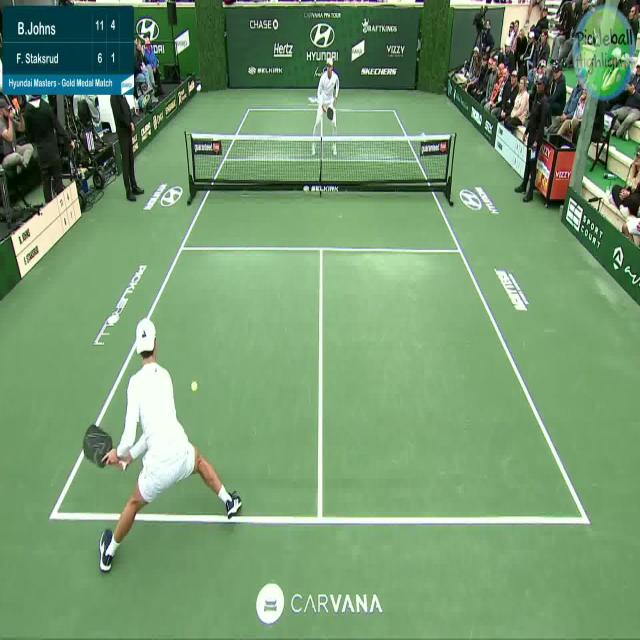ball: (189, 375, 197, 393)
